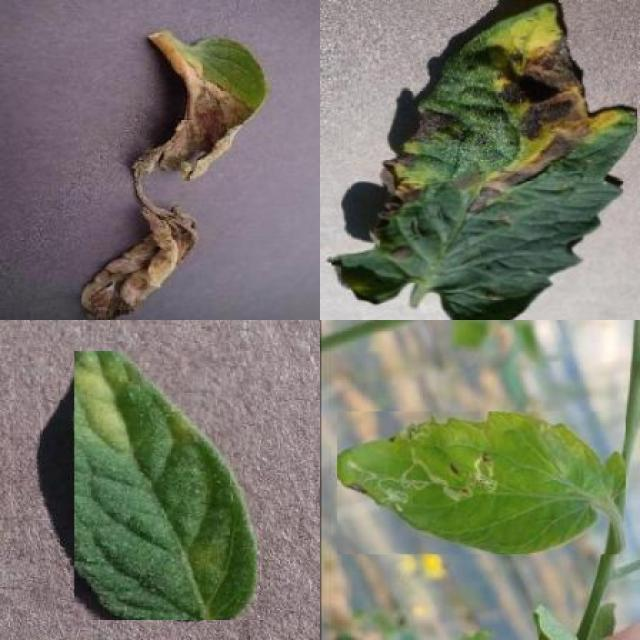Early Blight: (332, 3, 637, 320)
Late Blight: (82, 34, 268, 320)
Leaf Miner: (338, 412, 626, 555)
Leaf Mold: (75, 350, 258, 620)
